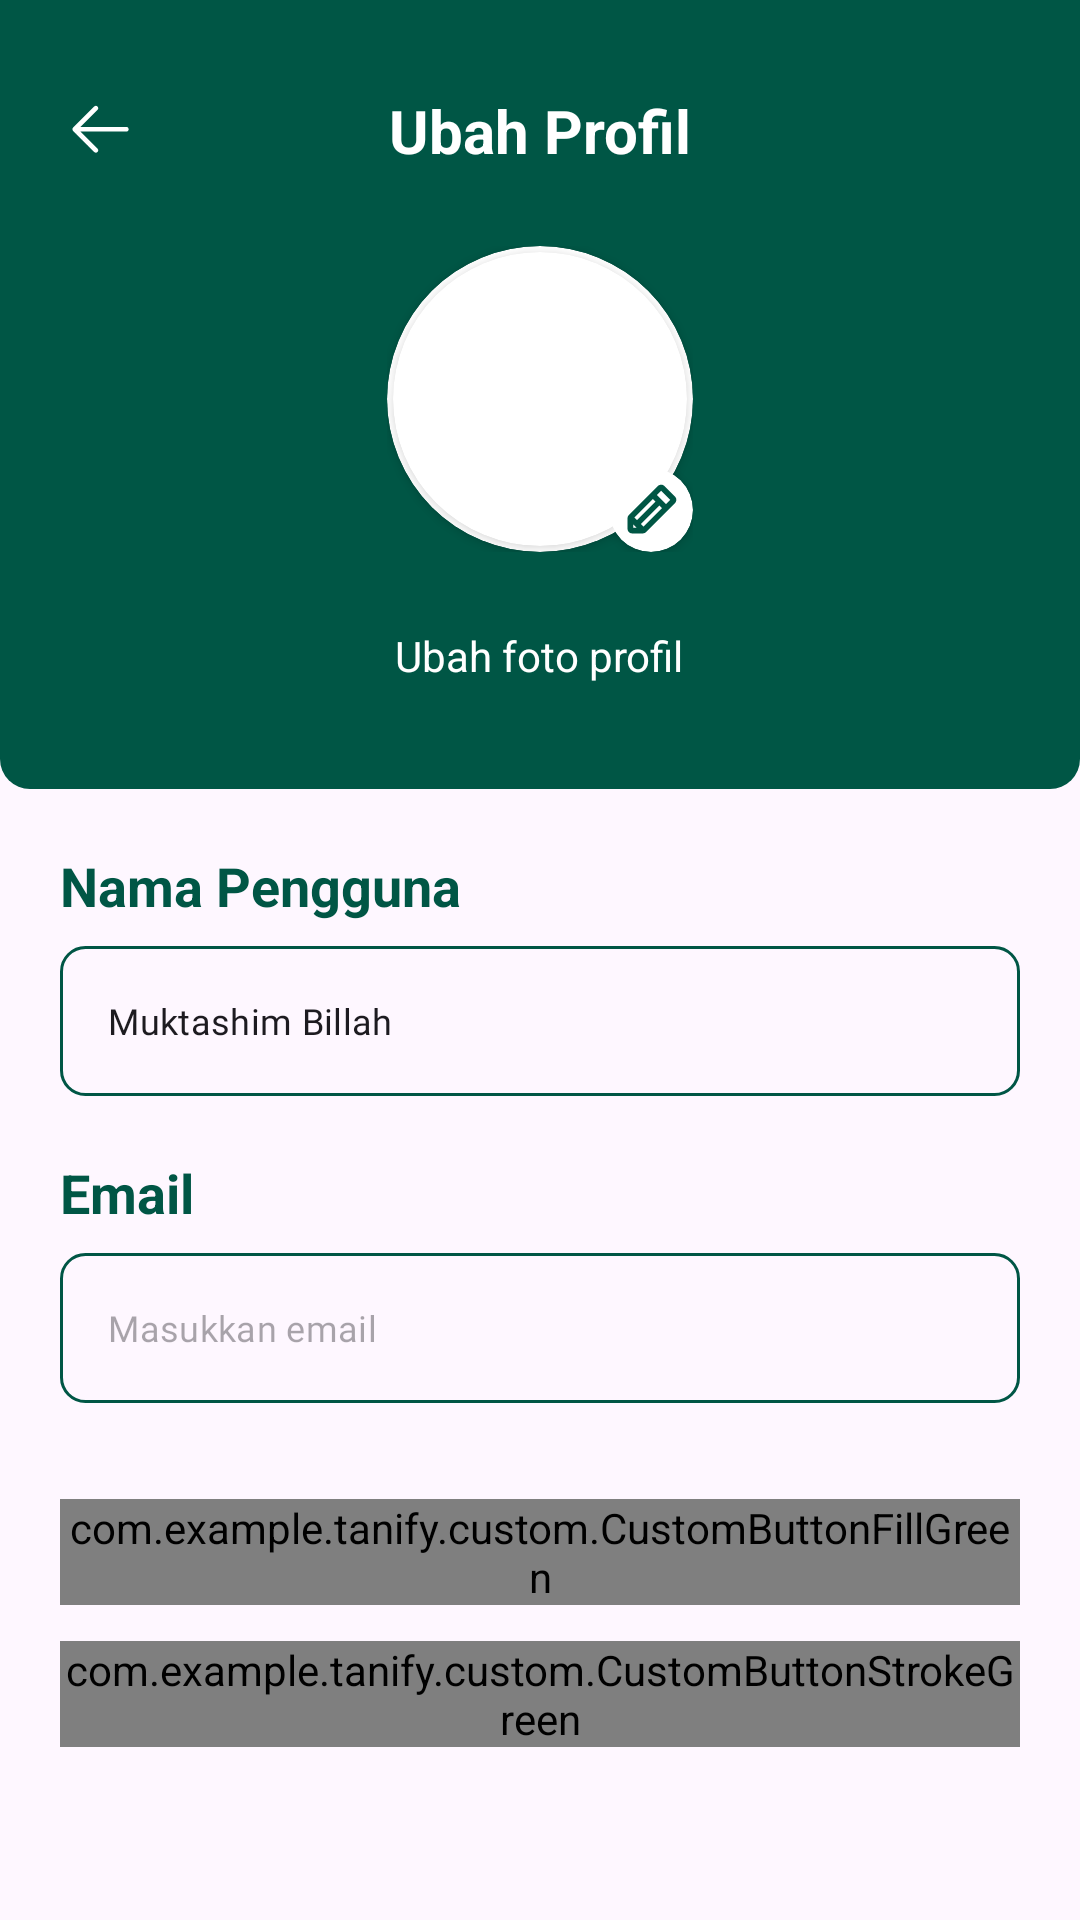

Screen size 1080 x 1920. Icon name, then its box in pixels as [left=x1, top=y1, right=x2, bottom=y2]:
left arrow: [left=72, top=105, right=129, bottom=153]
pencil: [left=627, top=484, right=677, bottom=534]
